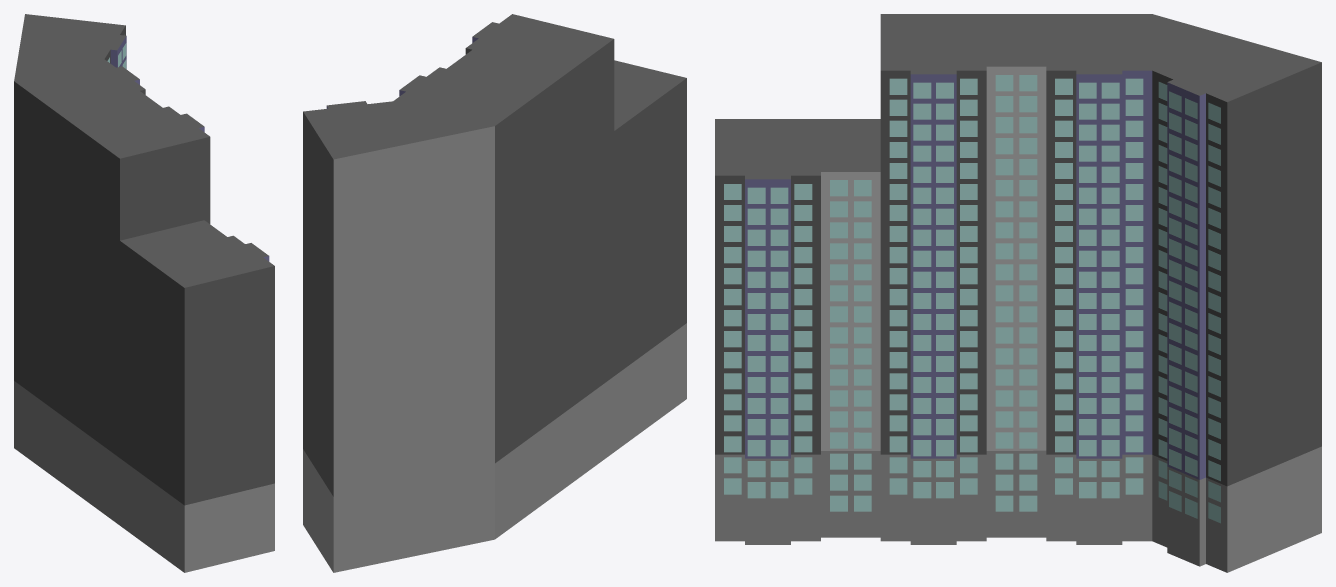
The model's file is apa (4).fbx.
3 views of the same model, side by side, from view 1: azimuth 30°, elevation 25°; view 2: azimuth 150°, elevation 25°; view 3: azimuth 270°, elevation 25° (orthographic). The views are drawn at different scales.
Parts seen in each view (by area): view 1: apt1; view 2: apt1; view 3: apt1.
Part boxes in pixels (x1,y1,x2,y2): apt1: (14, 14, 274, 572); apt1: (303, 14, 686, 572); apt1: (715, 14, 1321, 572).
Bounding box in the file's own units: 234 × 582 × 680.
